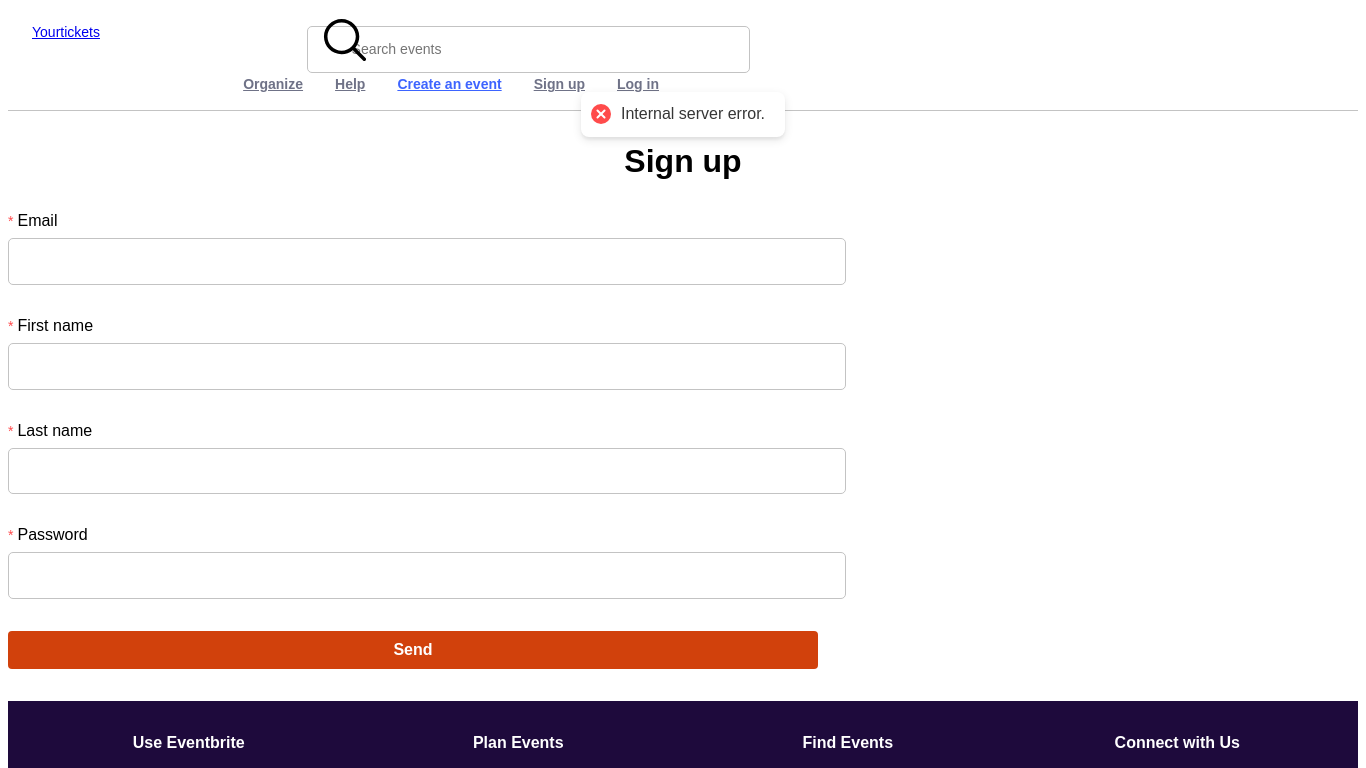
Test: <SignUp/> check validations › should validate a valid email
Expected: the text "email must be a valid email" is not shown
In the field labelled "Email": (427, 261) top-left (8, 238), bottom-right (846, 285), type "wrong email"
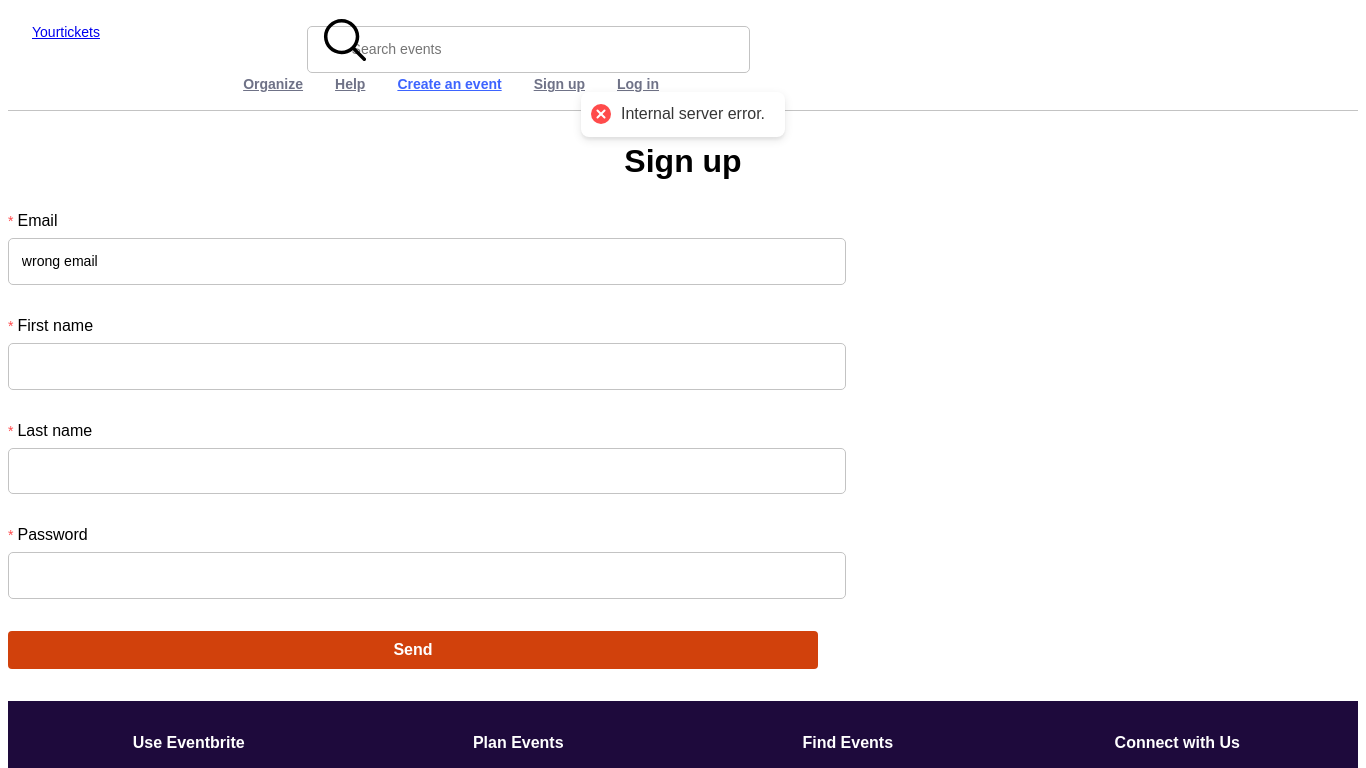
Click the button "Send": (413, 650) top-left (8, 631), bottom-right (818, 669)
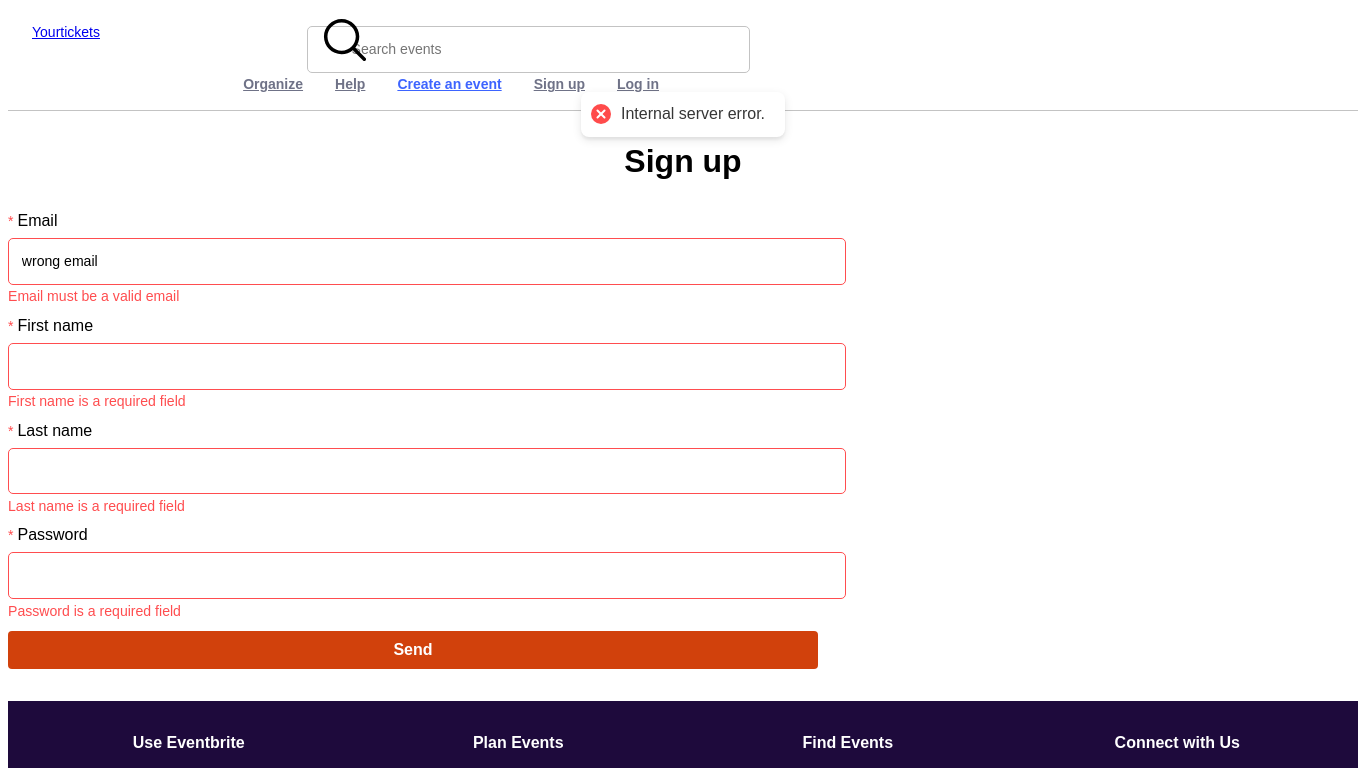
Expected: the text "Email must be a valid email" is shown, top-left (8, 288), bottom-right (179, 304)
